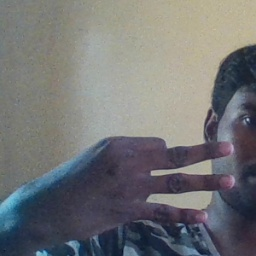K: (51, 132, 236, 234)
